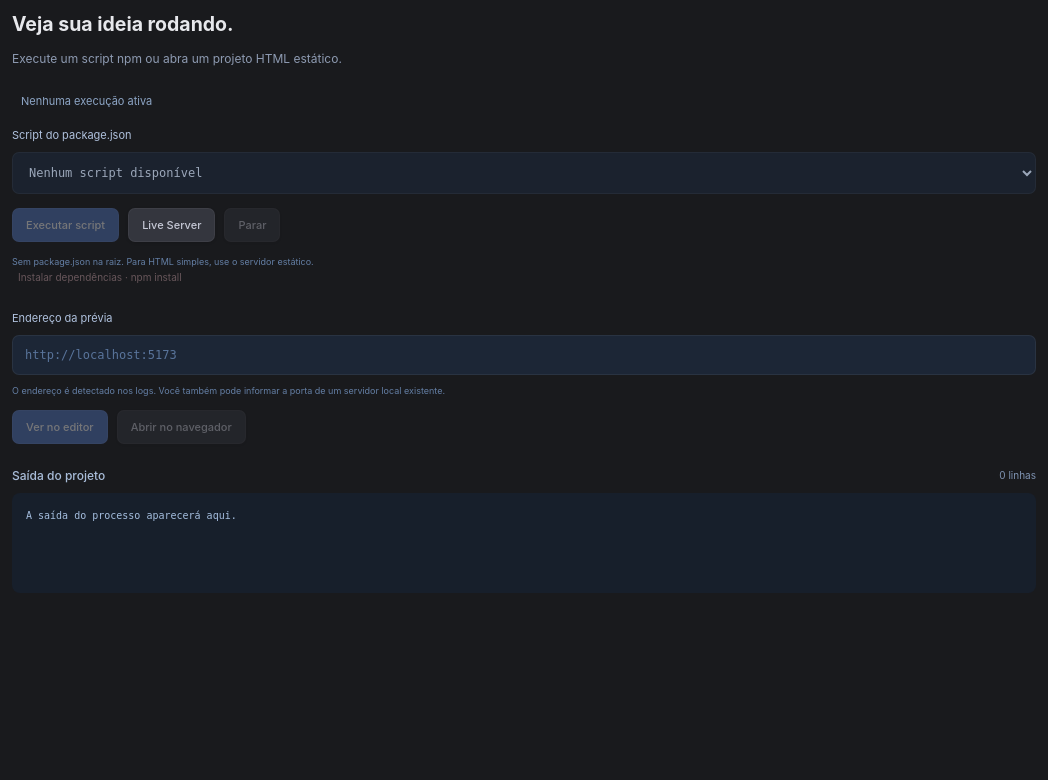
Executar projeto › sem package.json avisa e mostra falhas ao iniciar
Expected: the text "Sem package.json na raiz" is shown, [12,256,314,267]
Click the button "Live Server".
click(172, 225)  # box [128,208,215,242]
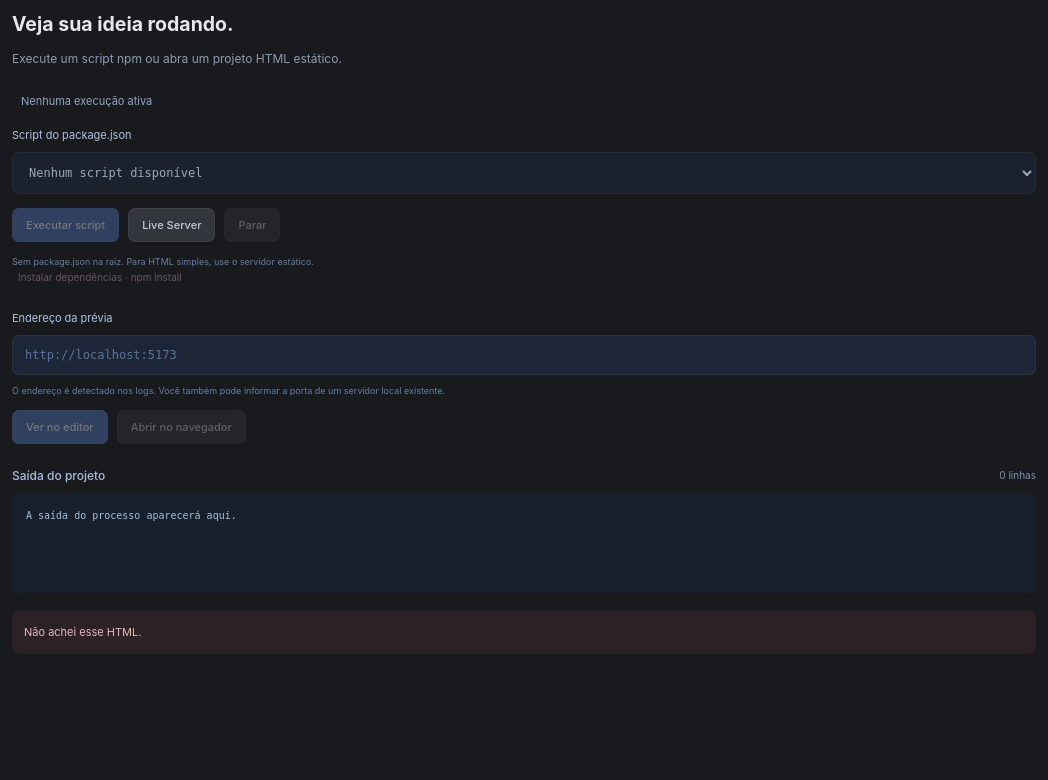
Result: the message reads "Não achei esse HTML." at [24,625,141,639]
